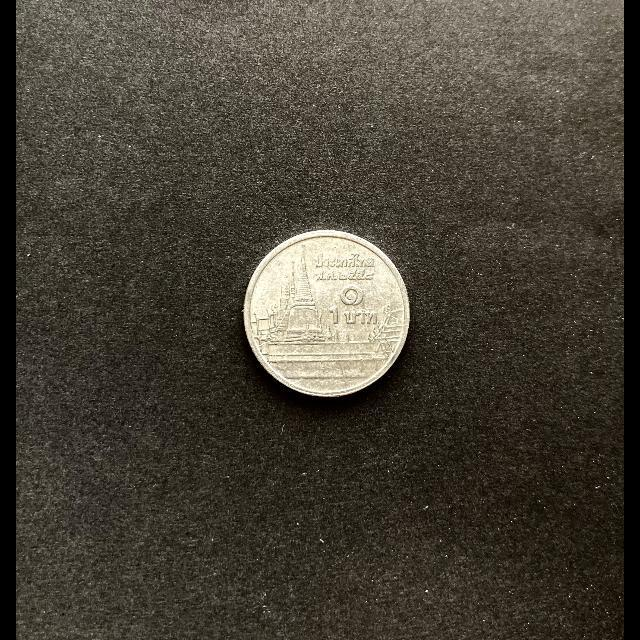1 Bath: (242, 228, 415, 401)
